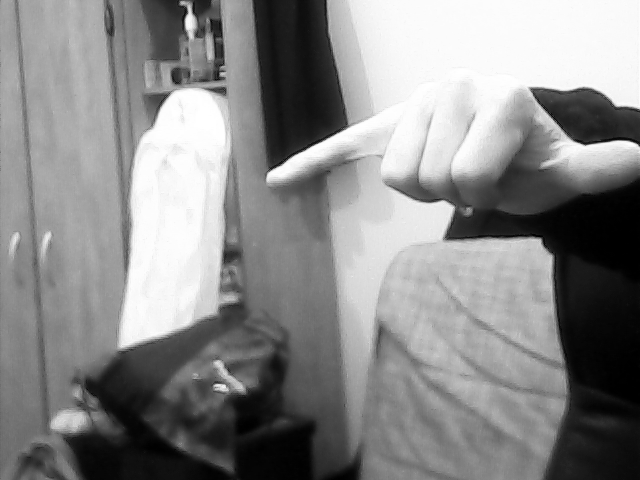aloha: (255, 65, 640, 215)
